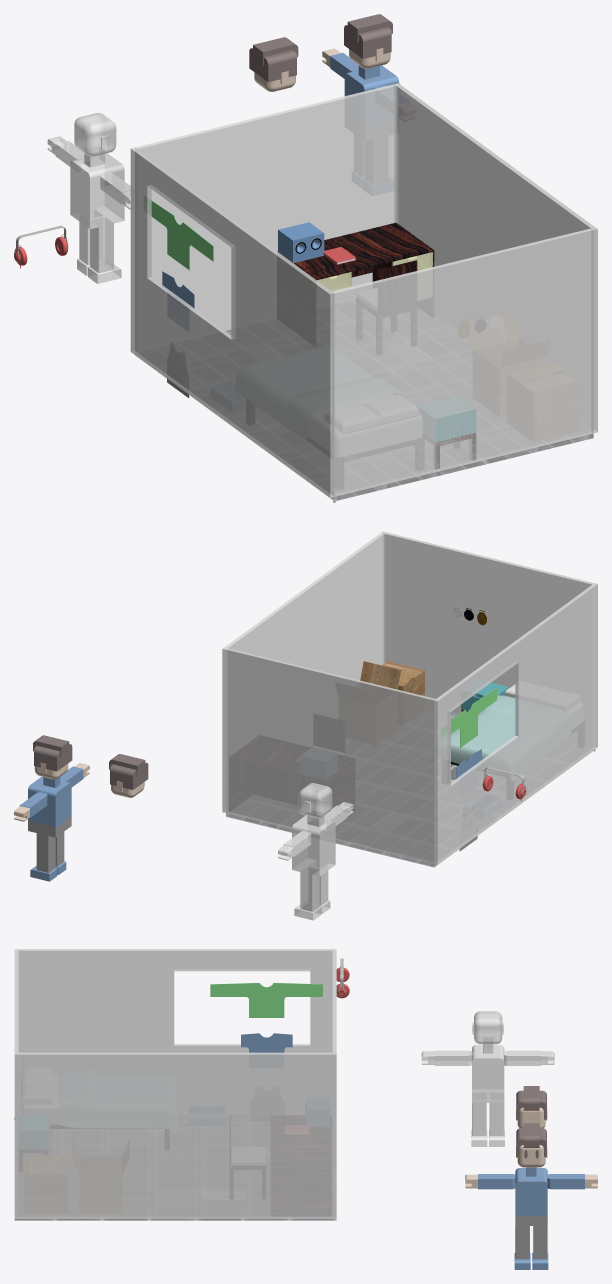
File: audifonos.fbx
3 renders of one model, top to bottom at view 1: azimuth 30°, elevation 25°; view 2: azimuth 150°, elevation 25°; view 3: azimuth 270°, elevation 25°, orthographic. The views are drawn at different scales.
Visible parts, largest first — view 1: object_82, object_38, object_41, object_40, object_1, object_13, object_80, object_85, object_86, object_42, object_22, object_79 (+4 smaller); view 2: object_41, object_38, object_82, object_40, object_1, object_6, object_22, object_86, object_85, object_80, object_42, object_7 (+2 smaller); view 3: object_40, object_38, object_1, object_80, object_22, object_42, object_79, object_85, object_86, object_7, object_18, object_17 (+4 smaller).
Part boxes in pixels (x1,y1,x2,y2): object_82: [332, 228, 593, 496]; object_38: [130, 147, 334, 497]; object_41: [135, 84, 396, 330]; object_40: [394, 83, 597, 433]; object_1: [47, 112, 130, 283]; object_13: [277, 222, 434, 280]; object_80: [144, 196, 213, 270]; object_85: [249, 37, 298, 82]; object_86: [344, 14, 392, 58]; object_42: [135, 330, 593, 500]; object_22: [344, 65, 399, 96]; object_79: [162, 271, 194, 329]; object_41: [226, 648, 435, 863]; object_38: [434, 583, 597, 864]; object_82: [384, 532, 594, 745]; object_40: [222, 531, 385, 812]; object_1: [278, 783, 353, 920]; object_6: [451, 695, 515, 764]; object_22: [28, 776, 71, 827]; object_86: [33, 735, 72, 771]; object_85: [109, 754, 148, 789]; object_80: [441, 688, 496, 747]; object_42: [226, 713, 593, 867]; object_7: [28, 816, 71, 853]; object_40: [14, 1052, 336, 1218]; object_38: [14, 949, 336, 1052]; object_1: [421, 1011, 554, 1146]; object_80: [210, 983, 322, 1017]; object_22: [515, 1167, 547, 1215]; object_42: [14, 1218, 336, 1220]; object_79: [241, 1033, 292, 1052]; object_85: [516, 1086, 546, 1119]; object_86: [516, 1123, 546, 1156]; object_7: [515, 1216, 547, 1239]; object_18: [478, 1174, 515, 1189]; object_17: [547, 1174, 584, 1189].
Bounding box in the file's own units: 56836 × 23700 × 72550.
